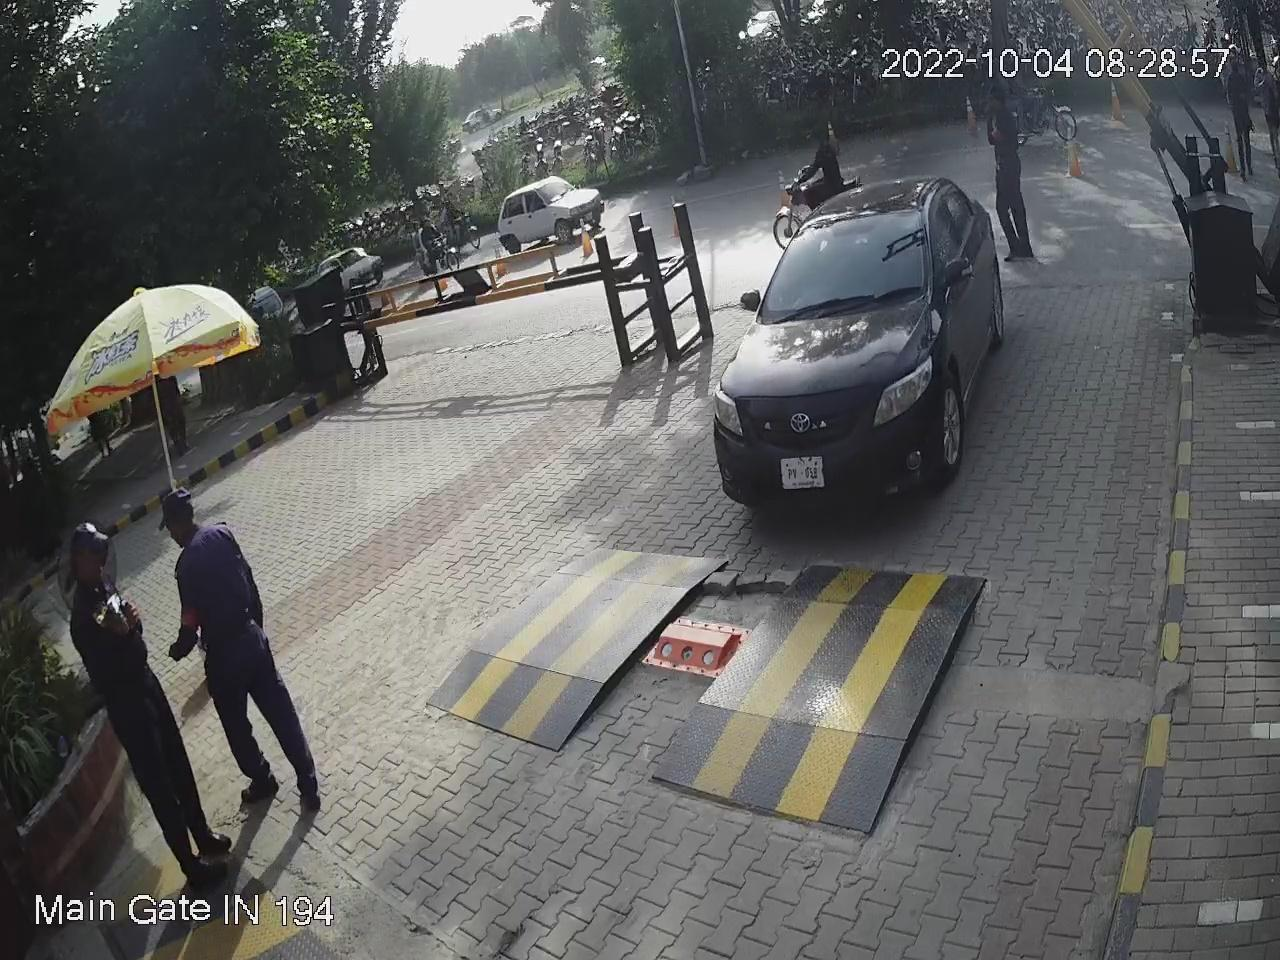windshield: (748, 198, 938, 323)
